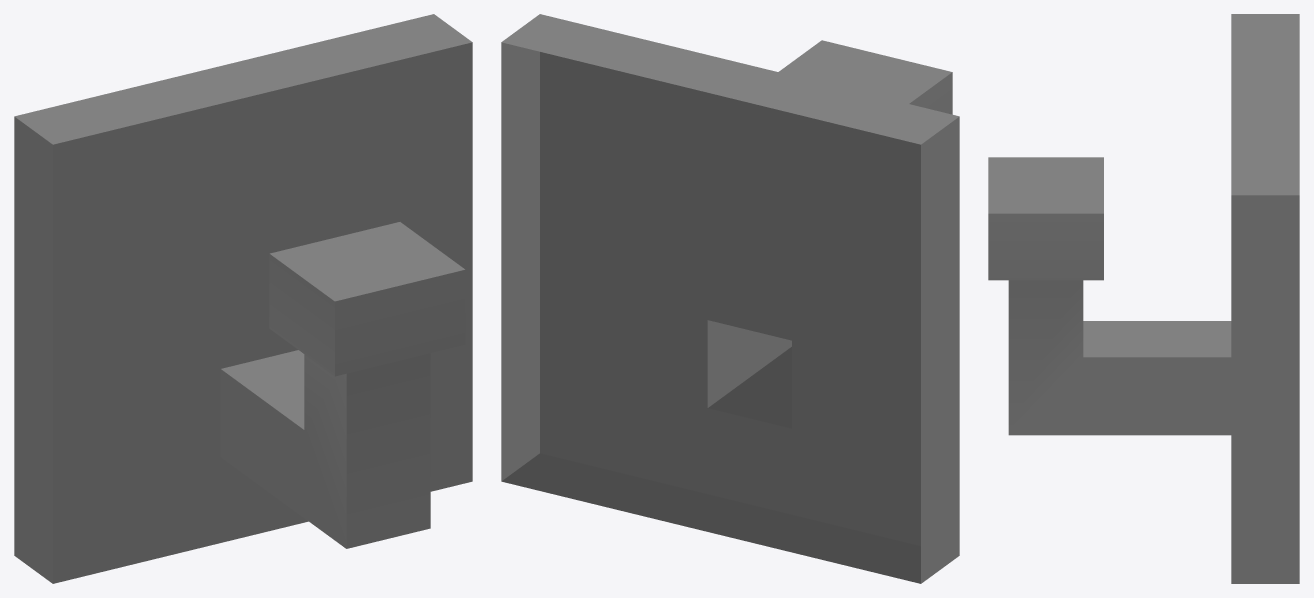
The model's file is ClothesHook.glb.
3 views of the same model, side by side, from view 1: azimuth 30°, elevation 25°; view 2: azimuth 150°, elevation 25°; view 3: azimuth 270°, elevation 25° (orthographic). The views are drawn at different scales.
Visible parts, largest first — view 1: SI_Prop_ClothesHook_01; view 2: SI_Prop_ClothesHook_01; view 3: SI_Prop_ClothesHook_01.
Part boxes in pixels (bbox=[...]): SI_Prop_ClothesHook_01: bbox=[14, 14, 472, 583]; SI_Prop_ClothesHook_01: bbox=[501, 14, 959, 583]; SI_Prop_ClothesHook_01: bbox=[988, 14, 1299, 583].
Size of the model in its own units: 0.00318 by 0.00318 by 0.00231.
Materials: 1 (1 with a texture image).
